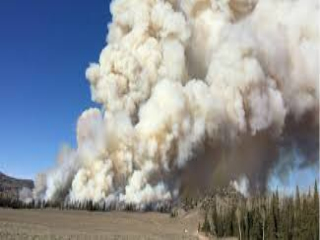smoke: (40, 6, 307, 209)
